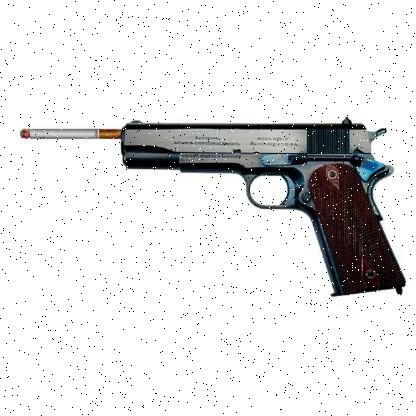gun: (120, 115, 406, 295)
